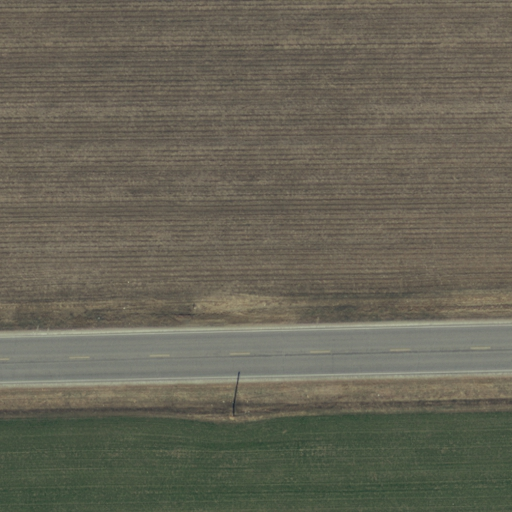DT: (222, 402, 246, 428)
